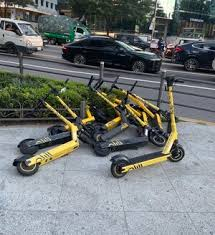fallin_kick: (11, 95, 95, 175)
kick_handler: (161, 76, 182, 85)
kick_neck: (168, 88, 178, 139)
kick_wheel: (109, 154, 128, 176), (167, 145, 184, 161)
